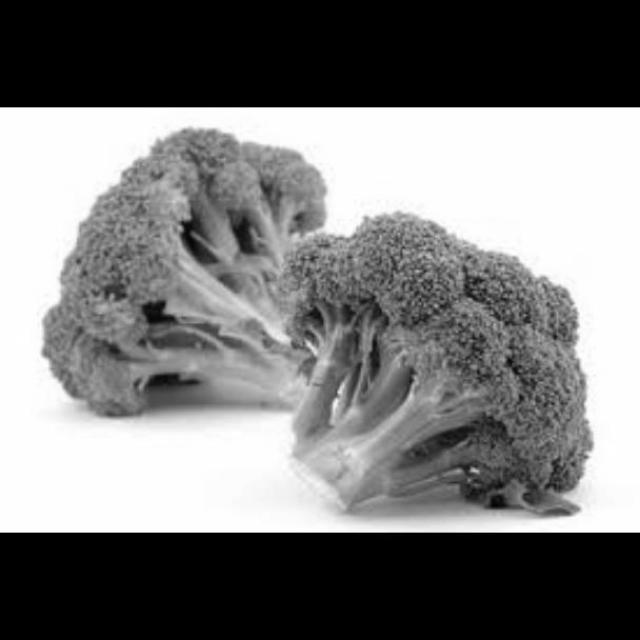bong cai xanh: (278, 197, 596, 525), (30, 119, 364, 422)
